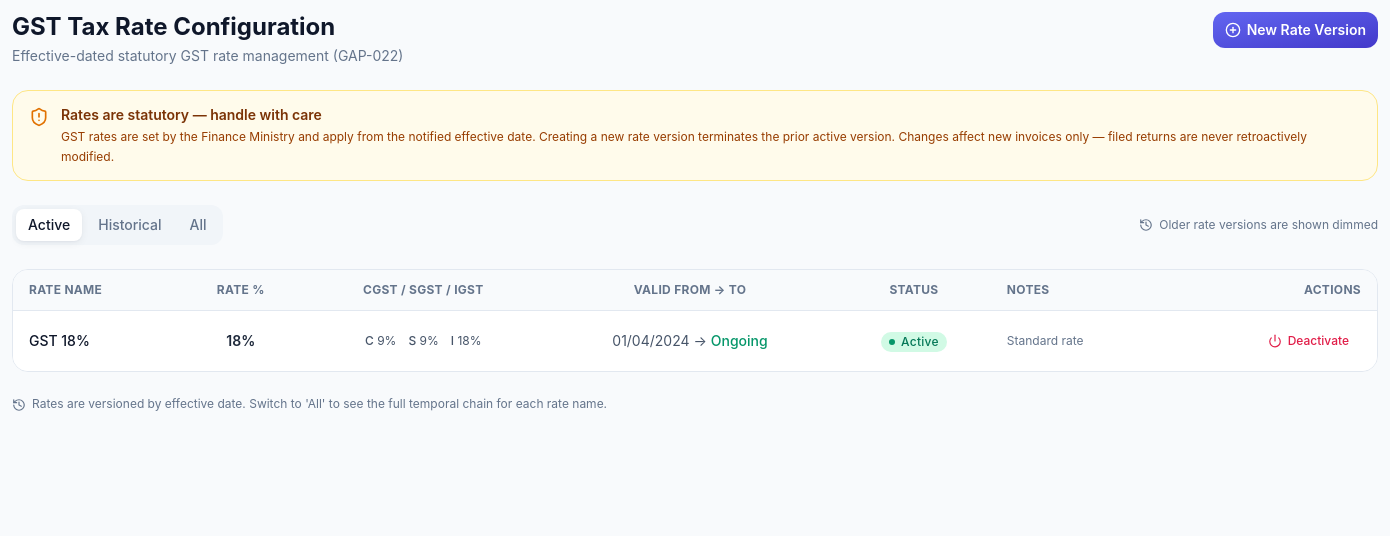
Scenario: GstTaxRatesPage › shows all rates in "All" tab
Click the button "All": (198, 225) [178,209,218,241]
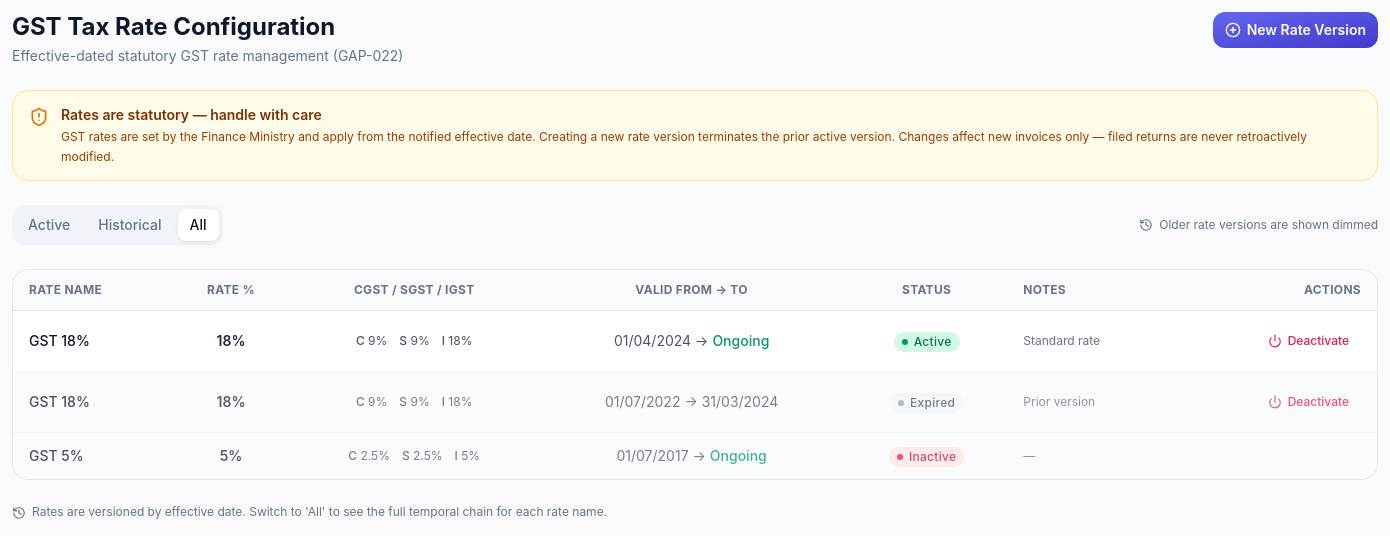
Check: the text "GST 5%" is shown, box [13,432,171,479]
